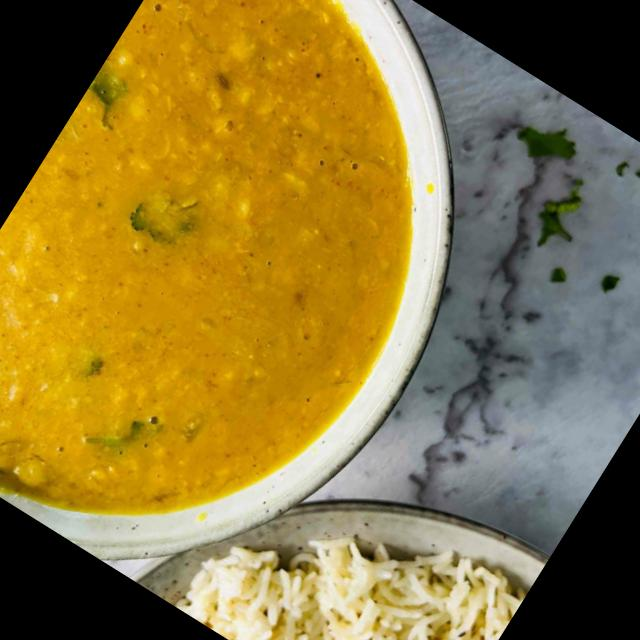dal: (0, 0, 549, 625)
rice: (178, 427, 534, 640)
